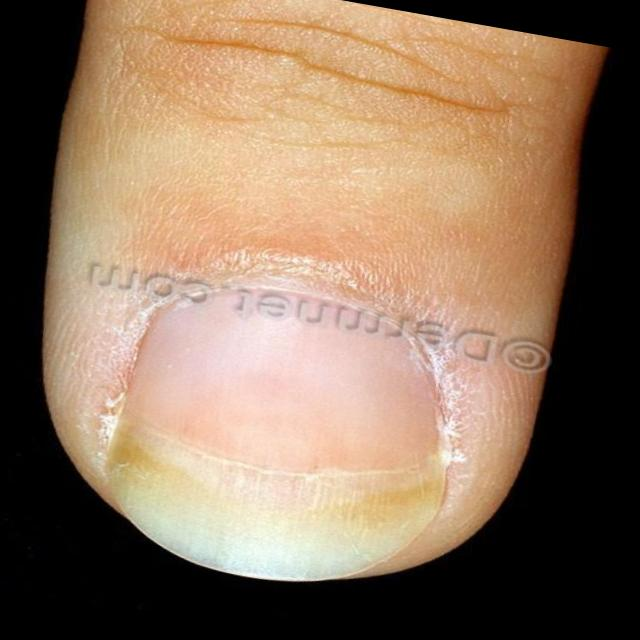Nail: (94, 287, 445, 580)
